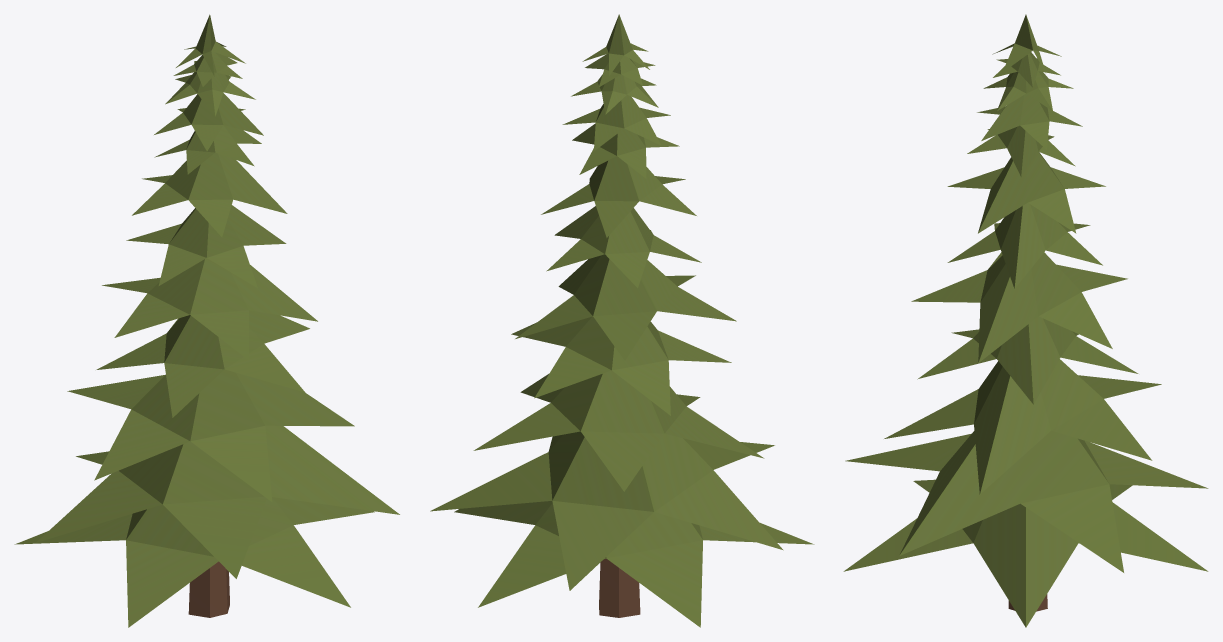
The model's file is Tree_2_TD_LOD1.fbx.
3 views of the same model, side by side, from view 1: azimuth 30°, elevation 25°; view 2: azimuth 150°, elevation 25°; view 3: azimuth 270°, elevation 25° (orthographic).
Parts seen in each view (by area): view 1: polySurface10399; view 2: polySurface10399; view 3: polySurface10399.
Part boxes in pixels (x1,y1,x2,y2): polySurface10399: [14, 14, 399, 627]; polySurface10399: [430, 14, 814, 627]; polySurface10399: [843, 14, 1208, 627].
Bounding box in the file's own units: 240 × 407 × 229.
